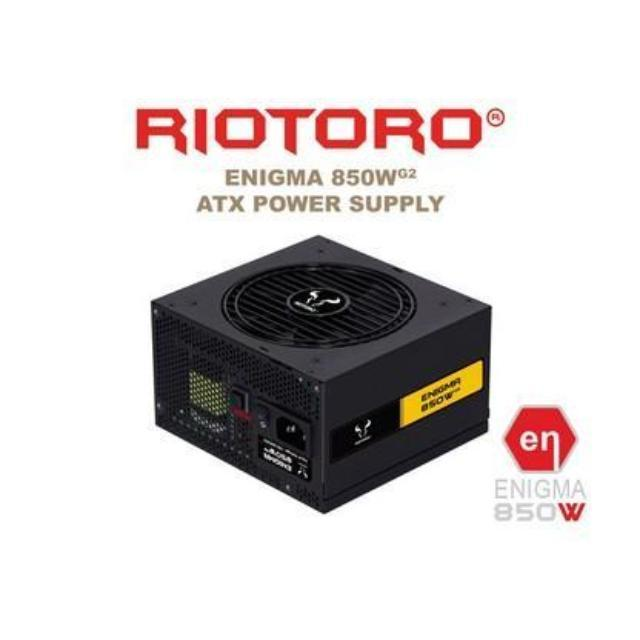PSU: (148, 230, 506, 512)
